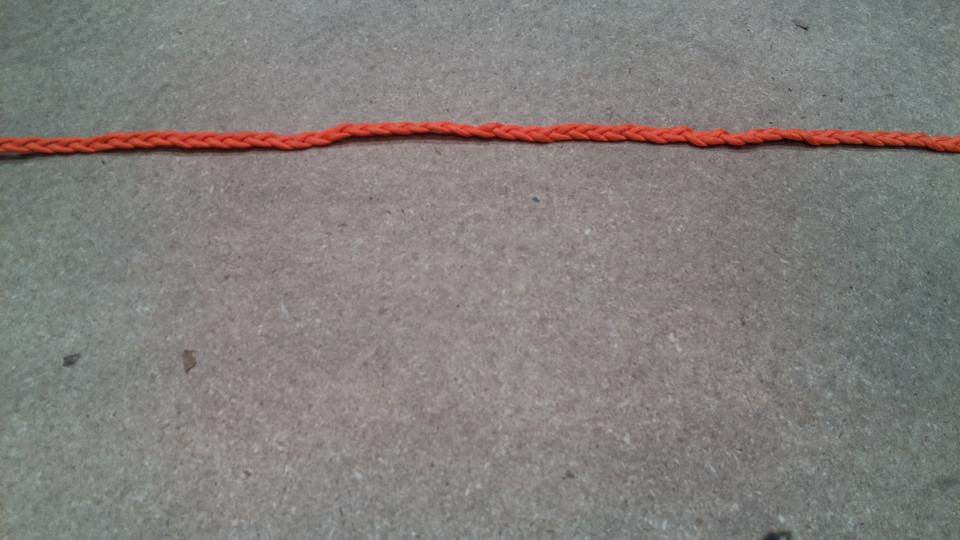rope: (3, 116, 960, 166)
